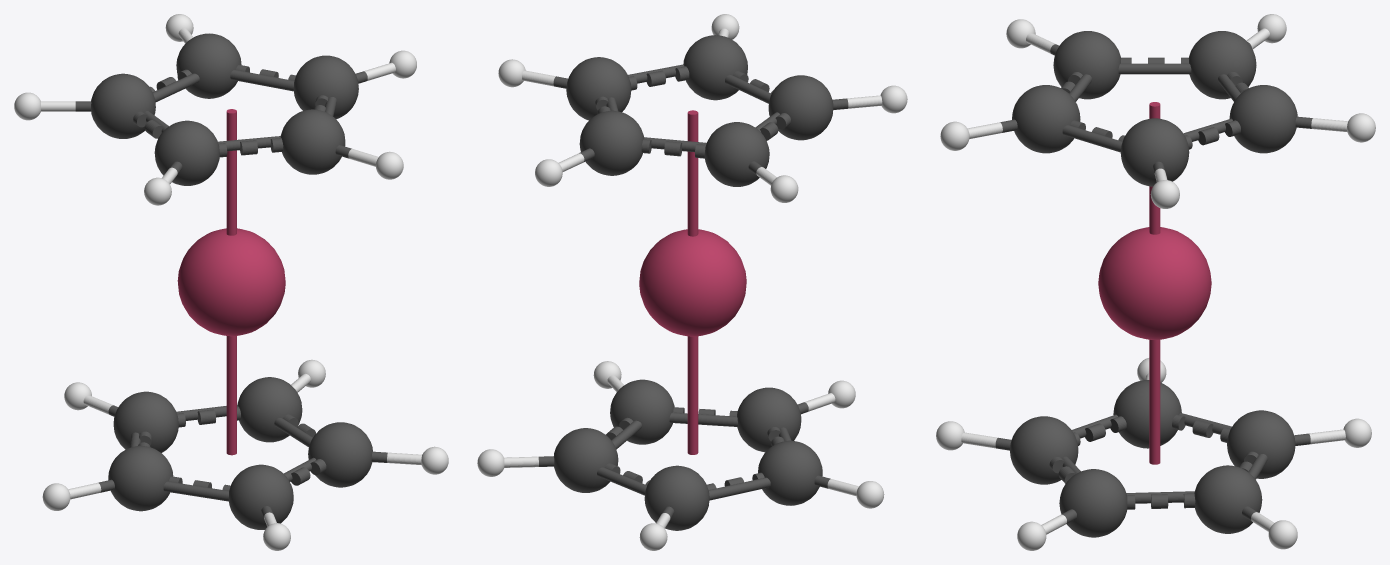
File: ferrocene.fbx
3 views of the same model, side by side, from view 1: azimuth 30°, elevation 25°; view 2: azimuth 150°, elevation 25°; view 3: azimuth 270°, elevation 25° (orthographic). The views are drawn at different scales.
Parts seen in each view (by area): view 1: Fe11, C05, C13, C04, C14, C12, C03, C18, C02, C16, C01, Fe11-?s22 (+21 smaller); view 2: Fe11, C02, C03, C13, C16, C18, C04, C05, C14, C12, C01, Fe11-?s22 (+20 smaller); view 3: Fe11, C14, C02, C18, C05, C01, C12, C16, C03, C04, C13, Fe11-?s22 (+22 smaller).
Boxes of the visible parts, x1,y1,x2,y2 form: Fe11: [177, 228, 285, 336]; C05: [280, 109, 345, 174]; C13: [108, 446, 173, 511]; C04: [154, 120, 219, 185]; C14: [308, 422, 372, 487]; C12: [228, 464, 293, 529]; C03: [91, 73, 155, 138]; C18: [237, 377, 302, 442]; C02: [176, 33, 241, 98]; C16: [113, 391, 178, 452]; C01: [293, 55, 358, 119]; Fe11-?s22: [226, 336, 236, 455]; Fe11: [639, 229, 746, 336]; C02: [579, 110, 644, 175]; C03: [704, 122, 769, 186]; C13: [758, 440, 822, 505]; C16: [644, 465, 709, 530]; C18: [554, 428, 618, 492]; C04: [768, 75, 833, 140]; C05: [683, 35, 747, 100]; C14: [610, 379, 674, 444]; C12: [737, 387, 801, 452]; C01: [566, 57, 631, 120]; Fe11-?s22: [687, 336, 698, 454]; Fe11: [1098, 227, 1211, 339]; C14: [1059, 469, 1127, 537]; C02: [1229, 85, 1297, 153]; C18: [1194, 465, 1262, 533]; C05: [1012, 85, 1080, 153]; C01: [1120, 118, 1189, 186]; C12: [1010, 416, 1078, 484]; C16: [1227, 410, 1295, 478]; C03: [1188, 31, 1256, 99]; C04: [1053, 31, 1121, 99]; C13: [1113, 380, 1181, 448]; Fe11-?s22: [1149, 339, 1160, 464].
Bounding box in the file's own units: 499 × 507 × 481.
